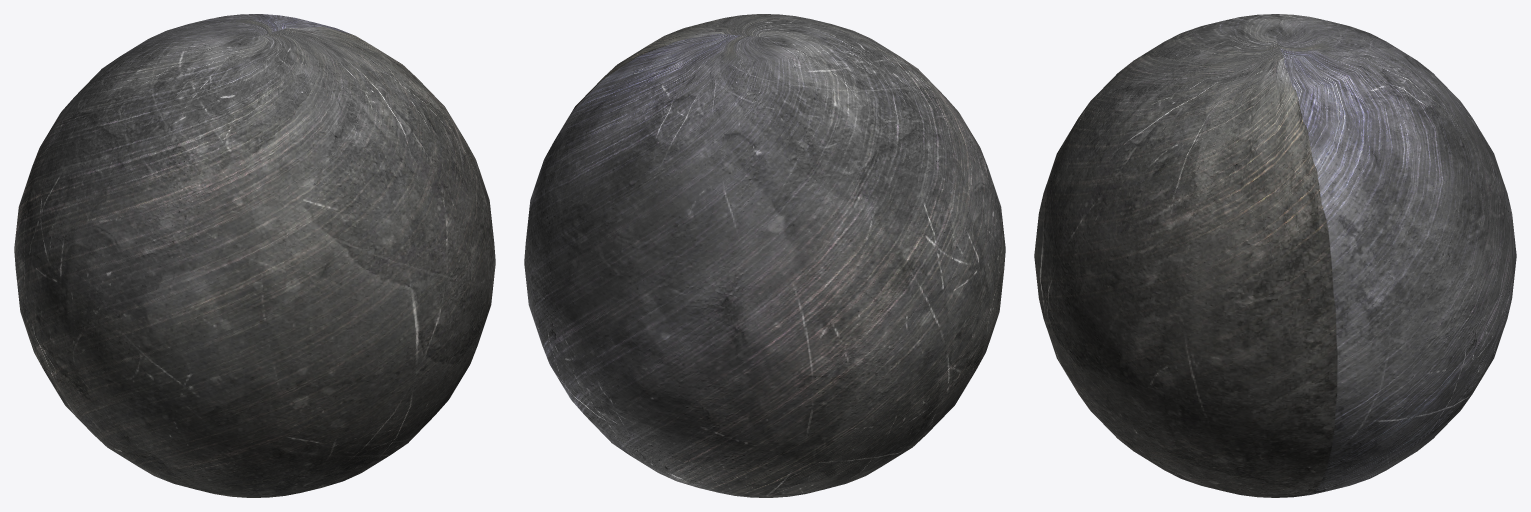
File: iron.obj
3 renders of one model, left to right at view 1: azimuth 30°, elevation 25°; view 2: azimuth 150°, elevation 25°; view 3: azimuth 270°, elevation 25°, orthographic.
Parts seen in each view (by area): view 1: Sphere_Sphere.001; view 2: Sphere_Sphere.001; view 3: Sphere_Sphere.001.
Boxes of the visible parts, x1,y1,x2,y2 form: Sphere_Sphere.001: (14, 14, 495, 497); Sphere_Sphere.001: (524, 14, 1005, 497); Sphere_Sphere.001: (1034, 14, 1516, 497).
Size of the model in its own units: 1.98 by 1.98 by 1.98.
